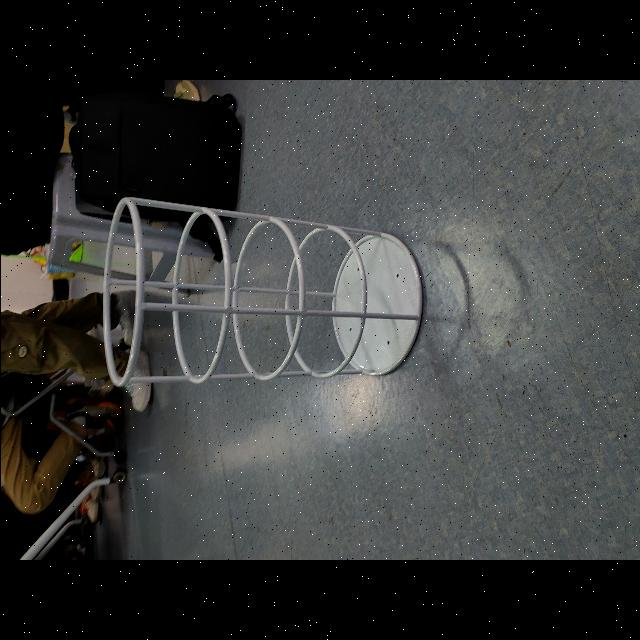S: (99, 192, 427, 390)
